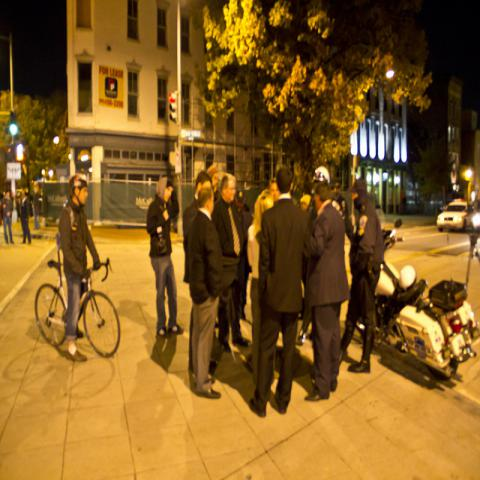car: (436, 198, 476, 232)
motorcycle: (370, 217, 479, 383)
